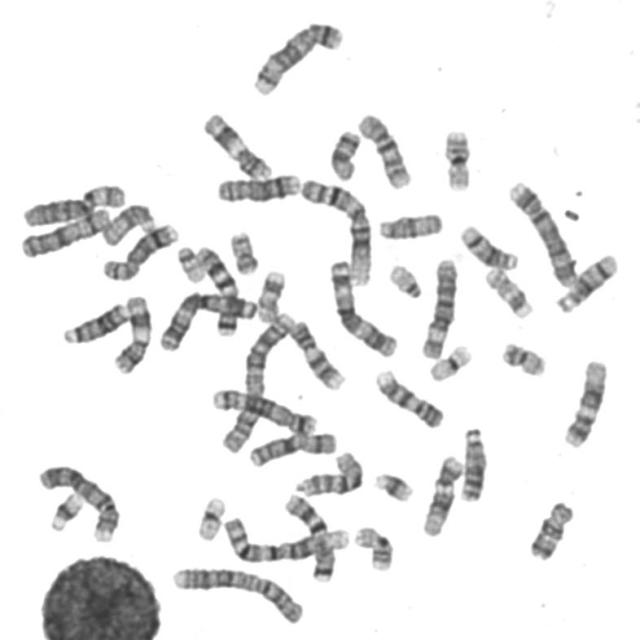A1: (296, 172, 376, 288), (220, 508, 353, 564)
A2: (217, 305, 298, 455), (167, 560, 308, 626)
A3: (326, 255, 401, 358), (156, 286, 260, 353)
B4: (506, 174, 583, 289), (35, 458, 124, 544)
B5: (249, 15, 348, 97), (208, 382, 320, 437)
C10: (354, 106, 415, 191), (291, 445, 367, 499)
C11: (199, 106, 277, 182), (109, 290, 154, 376)
C12: (560, 353, 612, 449), (418, 450, 466, 538)
C6: (19, 178, 130, 228), (417, 252, 462, 361)
C7: (279, 487, 339, 584), (192, 239, 244, 338)
C8: (98, 217, 182, 283), (213, 167, 304, 205)
C9: (372, 363, 448, 430), (287, 314, 349, 392)
D13: (60, 296, 131, 346), (457, 421, 490, 504)
D14: (553, 247, 622, 314), (457, 218, 523, 271)
D15: (99, 196, 160, 246), (376, 206, 446, 242)
E16: (439, 122, 477, 193), (352, 520, 398, 573)
E17: (482, 262, 537, 320), (253, 264, 289, 324)
E18: (526, 495, 578, 562), (326, 124, 364, 181)
F19: (425, 338, 476, 383), (192, 492, 230, 545)
F20: (498, 336, 552, 378), (226, 225, 262, 276)
G21: (46, 486, 86, 533), (372, 466, 418, 504)
G22: (384, 259, 425, 301), (174, 240, 208, 285)
X: (16, 202, 113, 260), (245, 426, 340, 468)
